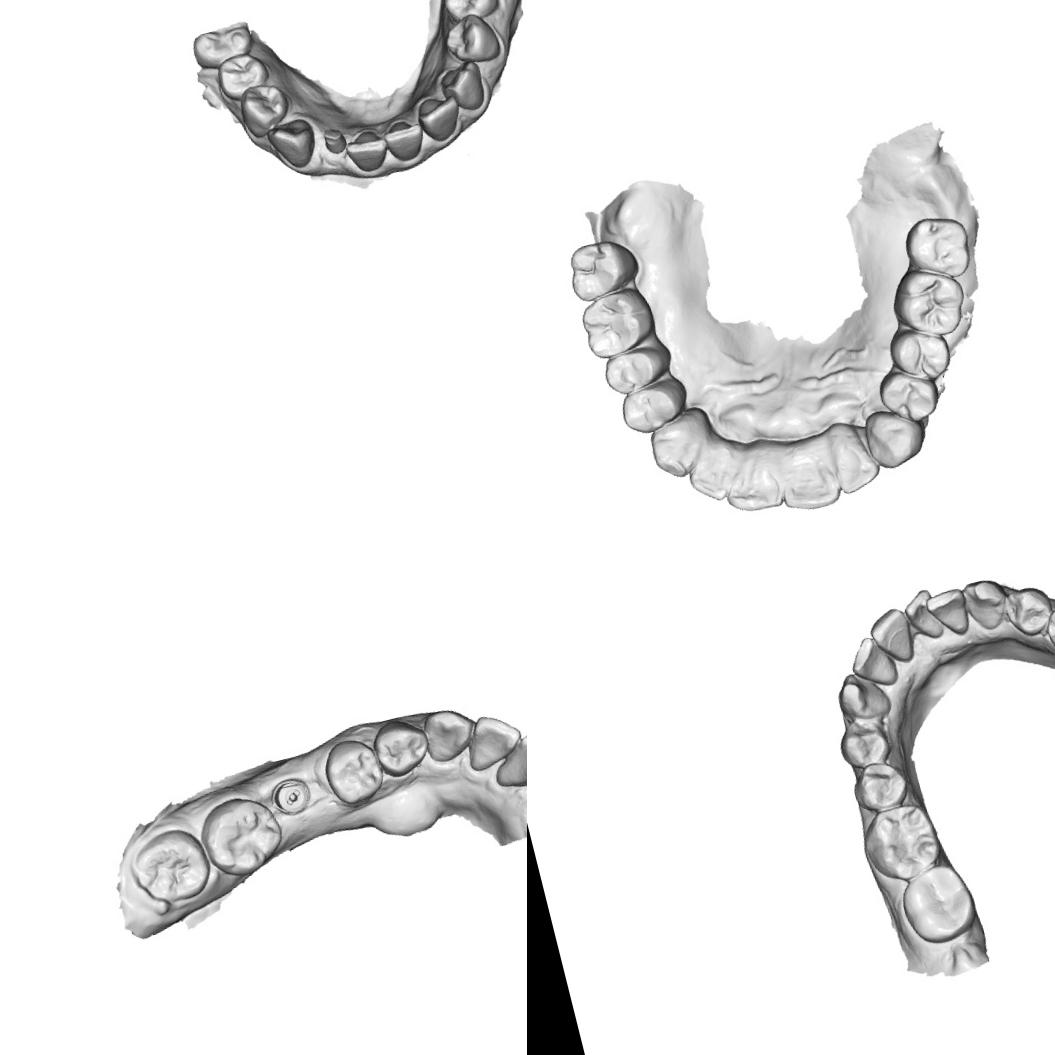abutment: (317, 120, 351, 160)
canine: (642, 404, 722, 484), (858, 399, 932, 473), (413, 698, 483, 766), (827, 663, 895, 728), (262, 112, 324, 175), (956, 572, 1015, 636), (433, 56, 492, 119)
implant_minus: (267, 769, 318, 822)
incisor: (454, 705, 527, 778), (772, 445, 844, 516), (680, 434, 750, 507), (822, 414, 883, 497), (716, 448, 787, 518), (336, 115, 398, 182), (861, 603, 920, 672), (843, 628, 902, 694), (412, 88, 470, 147), (921, 583, 978, 642), (897, 583, 947, 647), (376, 110, 430, 167), (482, 728, 527, 793)
molar: (192, 786, 294, 886), (853, 796, 950, 892), (892, 856, 984, 952), (121, 820, 216, 912), (883, 258, 973, 346), (575, 281, 662, 363), (898, 208, 977, 287), (562, 232, 644, 303), (186, 16, 260, 72)
premolar: (316, 731, 390, 813), (872, 359, 944, 430), (884, 320, 956, 390), (368, 709, 436, 783), (842, 752, 916, 820), (616, 374, 694, 437), (434, 5, 506, 73), (599, 340, 678, 398), (231, 76, 296, 143), (209, 44, 277, 108), (832, 711, 897, 774), (998, 579, 1055, 643), (437, 0, 505, 27), (1038, 595, 1055, 661)
